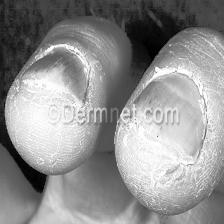Toxin: (119, 128, 210, 198), (18, 44, 102, 104)
